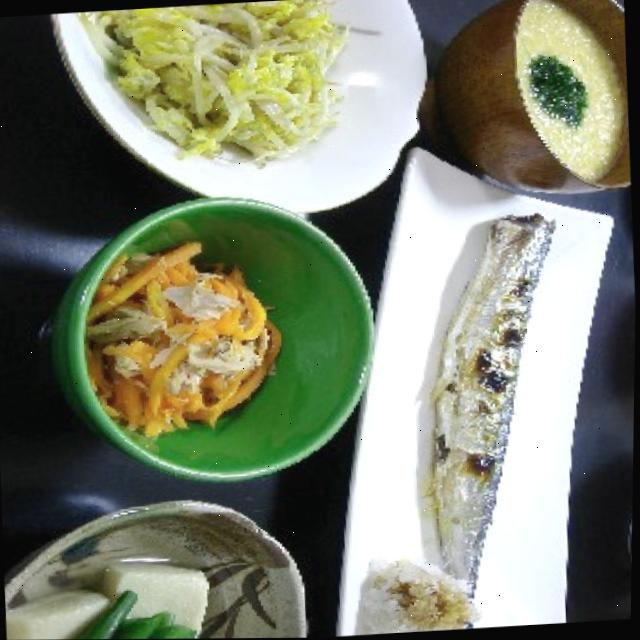熟制海鲜: (391, 170, 582, 633)
